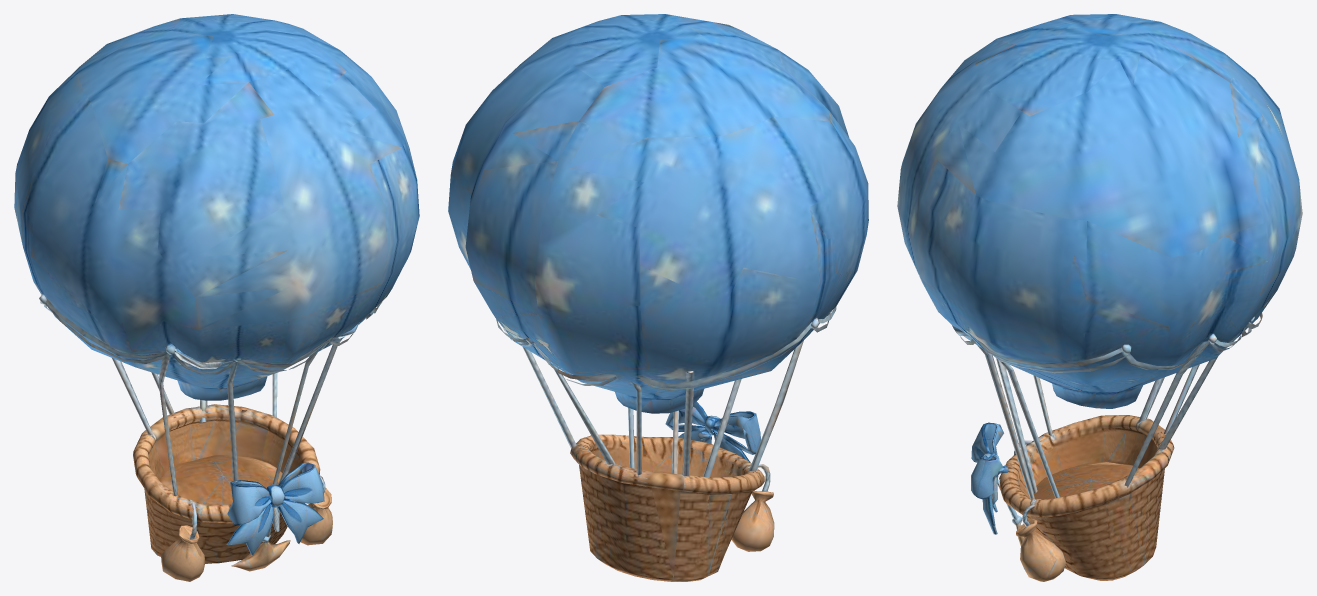
3 renders of one model, left to right at view 1: azimuth 30°, elevation 25°; view 2: azimuth 150°, elevation 25°; view 3: azimuth 270°, elevation 25°, orthographic. The views are drawn at different scales.
Size of the model in its own units: 0.6943 by 0.9517 by 0.6758.
1 material, 1 textured.
